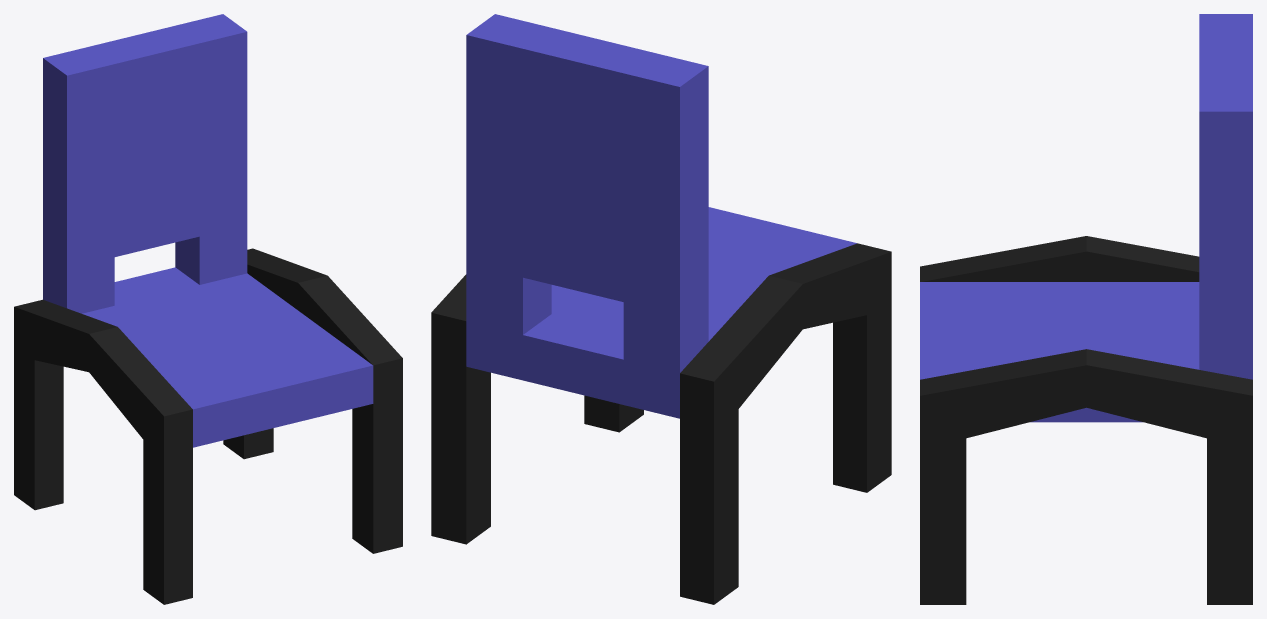
Rendered from breakchair (1).fbx.
3 views of the same model, side by side, from view 1: azimuth 30°, elevation 25°; view 2: azimuth 150°, elevation 25°; view 3: azimuth 270°, elevation 25° (orthographic). The views are drawn at different scales.
Parts seen in each view (by area): view 1: Chair; view 2: Chair; view 3: Chair.
Boxes of the visible parts, x1,y1,x2,y2 form: Chair: (14,14,402,604); Chair: (431,14,891,604); Chair: (920,14,1252,604).
Bounding box in the file's own units: 267 × 459 × 290.
